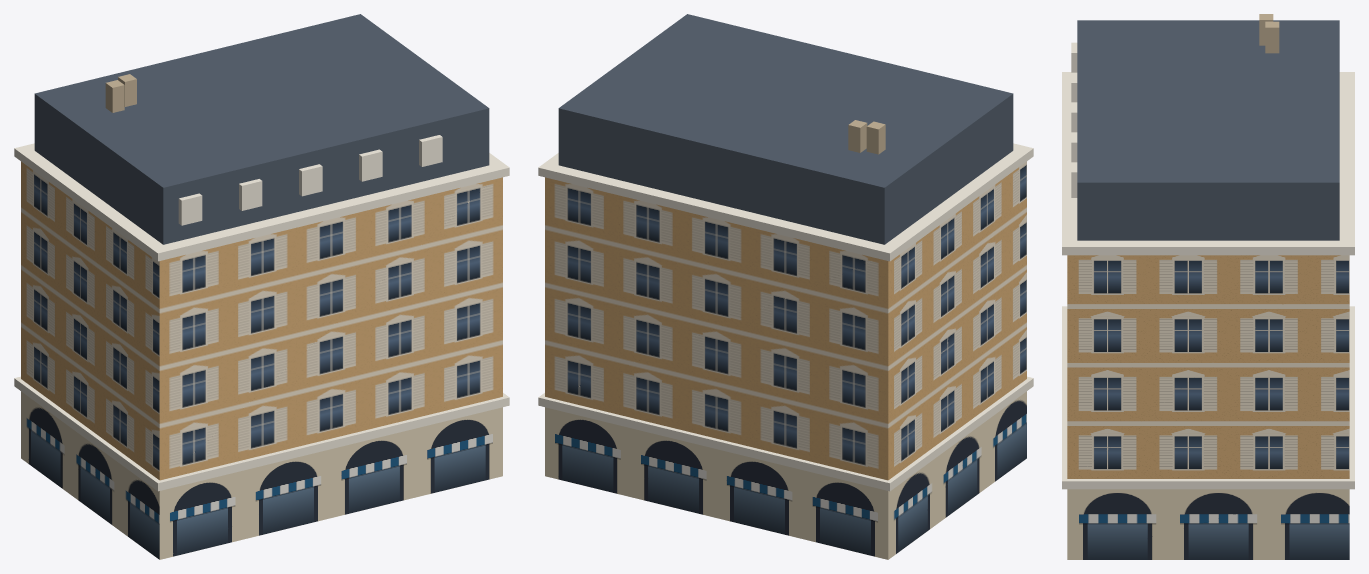
The model's file is belle_epoque_c.glb.
3 views of the same model, side by side, from view 1: azimuth 30°, elevation 25°; view 2: azimuth 150°, elevation 25°; view 3: azimuth 270°, elevation 25° (orthographic).
Parts seen in each view (by area): view 1: building; view 2: building; view 3: building.
Boxes of the visible parts, x1,y1,x2,y2 form: building: (14,14,509,559); building: (538,14,1033,559); building: (1062,14,1354,559).
Size of the model in its own units: 20.5 by 21.8 by 14.5.
Materials: 5 (2 with a texture image).
